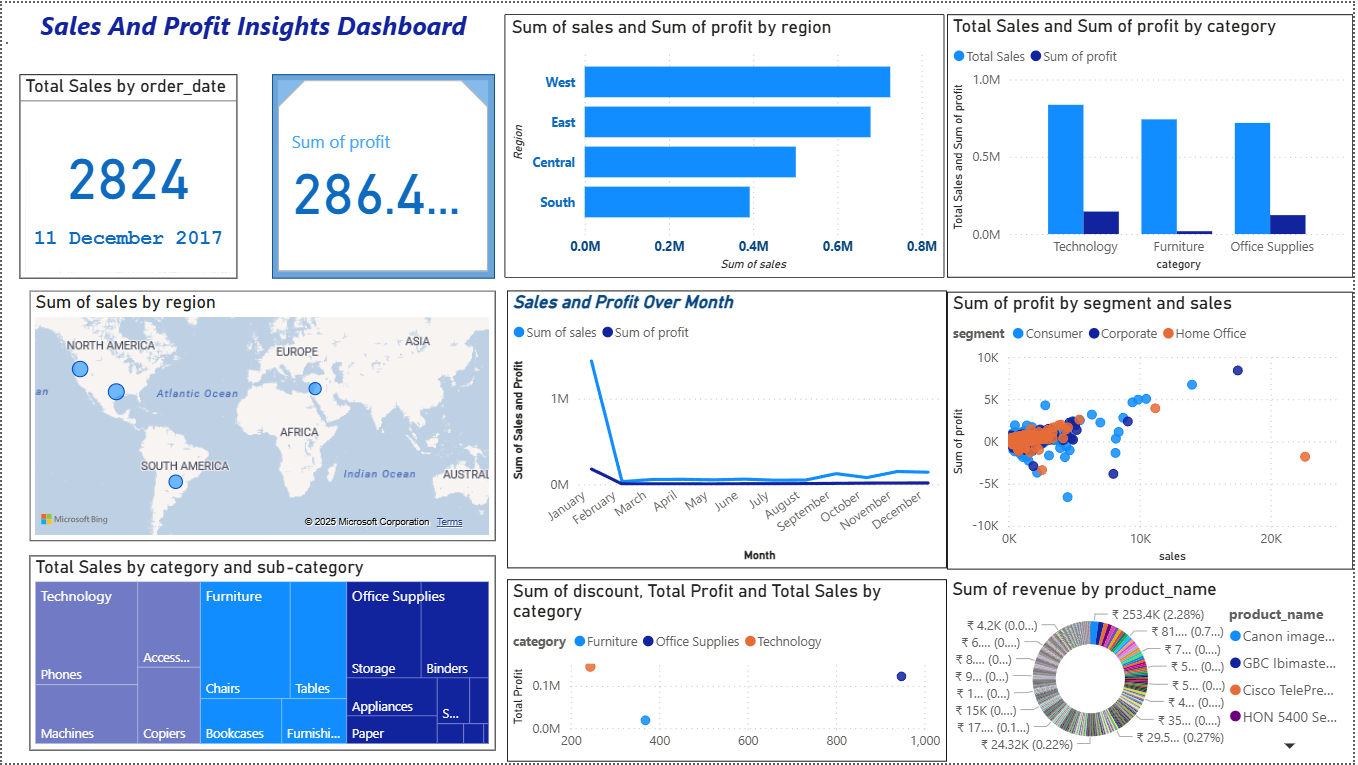

The page's visual inventory and layout, read from the dashboard file:
{"tool":"powerbi","page":{"name":"Page 1","canvas":[1280,720],"ordinal":0},"visuals":[{"type":"textbox","box":[9.6,0,279.9,46.7],"z":0},{"type":"textbox","box":[9.8,0,457.3,58.7],"z":1000},{"type":"kpi","fields":{"Indicator":["sales_cleaned_data.Total Sales"],"TrendLine":["sales_cleaned_data.order_date"]},"box":[17.1,67.3,206.7,193.2],"z":2000},{"type":"cardVisual","fields":{"Data":["Sum(sales_cleaned_data.profit)"]},"box":[255.6,67.3,211.6,193.2],"z":3000},{"type":"map","fields":{"Category":["sales_cleaned_data.region"],"Size":["Sum(sales_cleaned_data.sales)"]},"box":[25.7,272.7,441.4,237.2],"z":4000},{"type":"clusteredBarChart","fields":{"Y":["Sum(sales_cleaned_data.sales)"],"Category":["sales_cleaned_data.region"]},"box":[475.7,11,417,249.5],"z":5000},{"type":"clusteredColumnChart","fields":{"Category":["sales_cleaned_data.category"],"Y":["sales_cleaned_data.Total Sales","Sum(sales_cleaned_data.profit)"]},"box":[895.1,11,385.2,249.5],"z":6000},{"type":"treemap","fields":{"Group":["sales_cleaned_data.category"],"Details":["sales_cleaned_data.sub-category"],"Values":["sales_cleaned_data.Total Sales"]},"box":[25.7,523.4,441.4,184.6],"z":7000},{"type":"lineChart","title":"Sales and Profit Over Month","fields":{"Category":["sales_cleaned_data.order_date.Variation.Date Hierarchy.Month"],"Y":["Sum(sales_cleaned_data.sales)","Sum(sales_cleaned_data.profit)"]},"box":[478.1,272.7,417,262.9],"z":8000},{"type":"scatterChart","fields":{"Y":["Sum(sales_cleaned_data.profit)"],"X":["sales_cleaned_data.sales"],"Series":["sales_cleaned_data.segment"]},"box":[895,273,385,263],"z":9000},{"type":"actionButton","box":[0,0,100,40],"z":10000},{"type":"scatterChart","fields":{"X":["Sum(sales_cleaned_data.discount)"],"Size":["sales_cleaned_data.Total Sales"],"Series":["sales_cleaned_data.category"],"Y":["sales_cleaned_data.Total Profit"]},"box":[478.1,545.4,417,172.4],"z":11000},{"type":"donutChart","fields":{"Category":["sales_cleaned_data.product_name"],"Y":["Sum(sales_cleaned_data.revenue)"]},"box":[895,545,385,172],"z":12000}]}

Visuals, with their boxes in screenshot pixels (x1, y1, x2, y2), scaled from the page's 1280x720 canvas onto the 1358x765 screenshot:
textbox: (10, 0, 307, 50)
textbox: (10, 0, 496, 62)
kpi - sales_cleaned_data.Total Sales x sales_cleaned_data.order_date: (18, 72, 237, 277)
cardVisual - Sum(sales_cleaned_data.profit): (271, 72, 496, 277)
map - sales_cleaned_data.region x Sum(sales_cleaned_data.sales): (27, 290, 496, 542)
clusteredBarChart - Sum(sales_cleaned_data.sales) x sales_cleaned_data.region: (505, 12, 947, 277)
clusteredColumnChart - sales_cleaned_data.category x sales_cleaned_data.Total Sales: (950, 12, 1357, 277)
treemap - sales_cleaned_data.category x sales_cleaned_data.sub-category: (27, 556, 496, 752)
"Sales and Profit Over Month" lineChart: (507, 290, 950, 569)
scatterChart - Sum(sales_cleaned_data.profit) x sales_cleaned_data.sales: (950, 290, 1357, 570)
actionButton: (0, 0, 106, 42)
scatterChart - Sum(sales_cleaned_data.discount) x sales_cleaned_data.Total Sales: (507, 579, 950, 763)
donutChart - sales_cleaned_data.product_name x Sum(sales_cleaned_data.revenue): (950, 579, 1357, 762)
